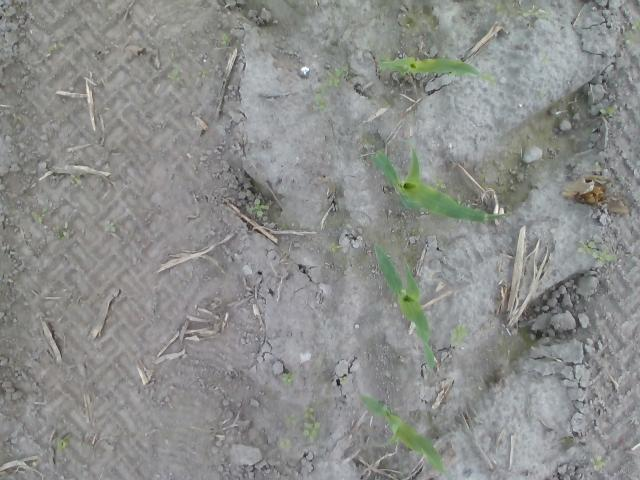Maize: (369, 148, 510, 222), (370, 240, 438, 371), (363, 396, 448, 476), (378, 55, 492, 86)
Weeds: (576, 240, 616, 264), (302, 404, 320, 442), (449, 325, 470, 347), (325, 66, 344, 88), (312, 85, 328, 111), (248, 198, 268, 218), (521, 7, 548, 20), (590, 456, 606, 471), (489, 0, 503, 16), (328, 240, 343, 253), (598, 106, 614, 116), (220, 34, 232, 46), (284, 414, 297, 425), (278, 438, 290, 448), (56, 438, 66, 450), (281, 372, 293, 382), (30, 212, 42, 222), (70, 176, 82, 184), (58, 231, 68, 240), (632, 20, 640, 29)
